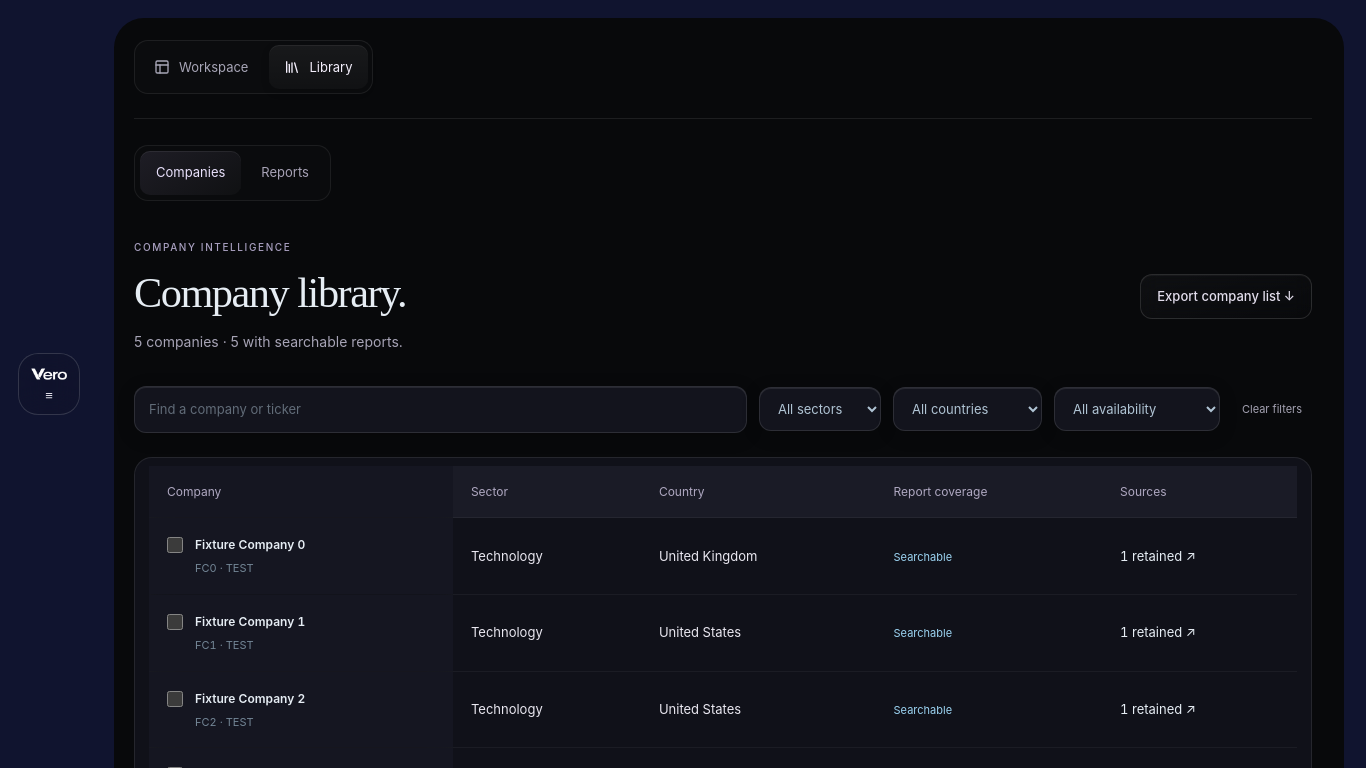
Test: supports company search and country filters
Type "FC0" into the search field named "Search companies" at (440, 409), box [134,386,747,433]
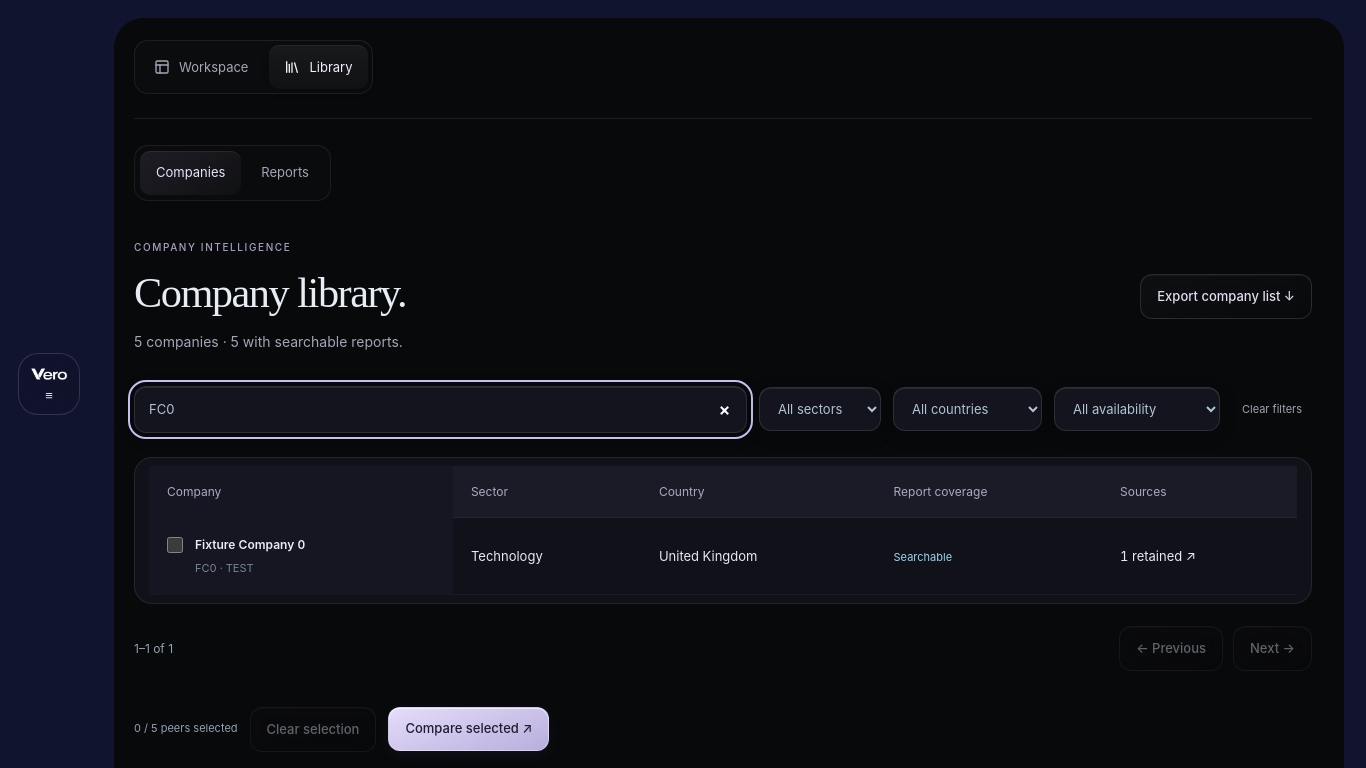
Now the link "Fixture Company 1" is gone
Click the button "Clear filters" at (1272, 409), box [1232,387,1312,431]
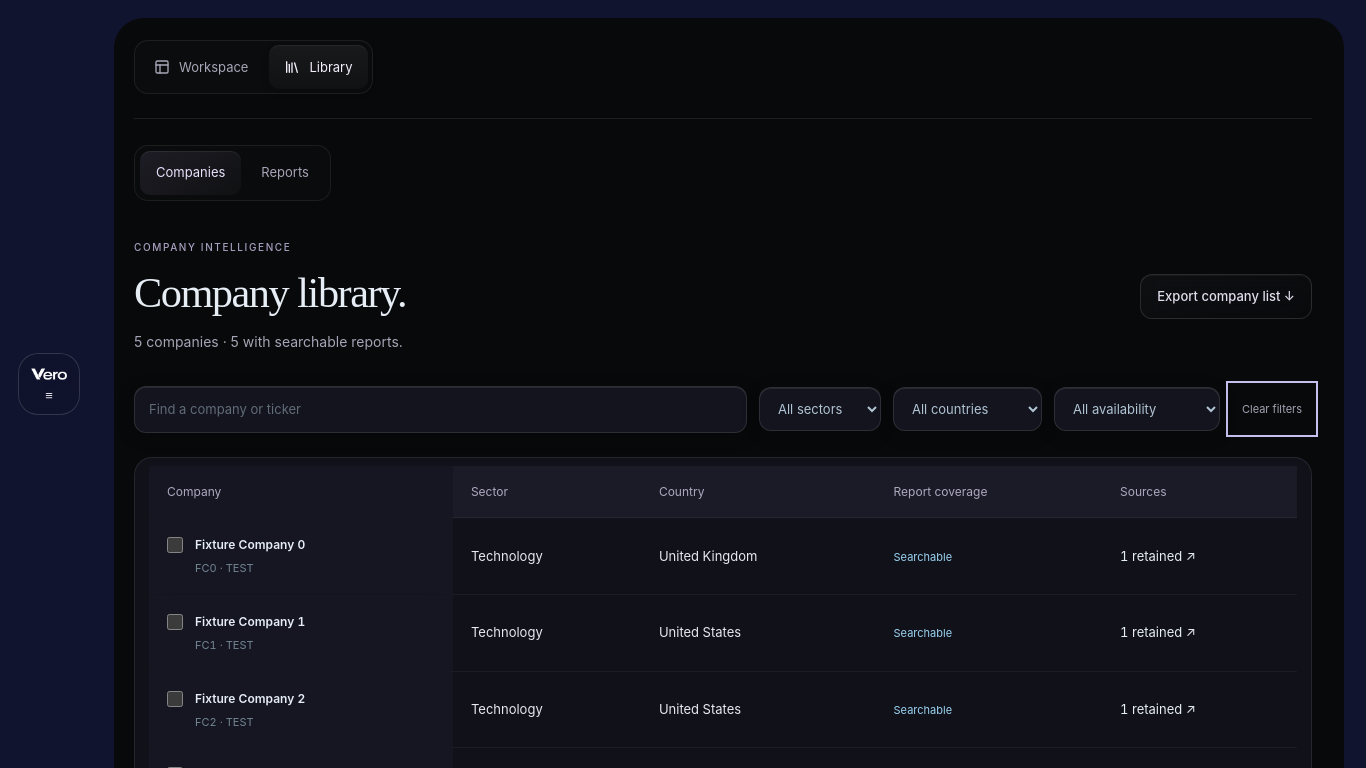
Select "United Kingdom" in the dropdown named "Country" at (968, 409), box [893,387,1042,431]
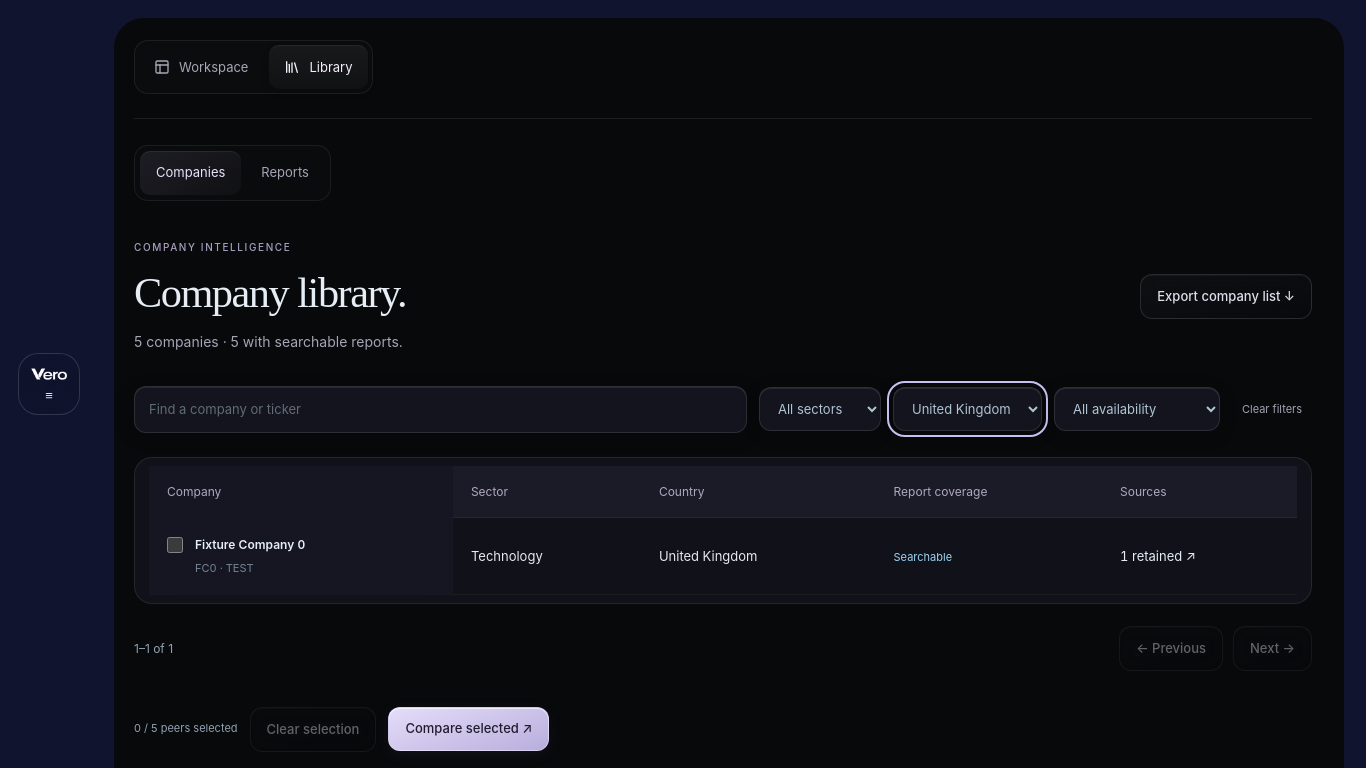
Now the number of rows is 2, box [149,466,1297,518]; [149,518,1297,594]
